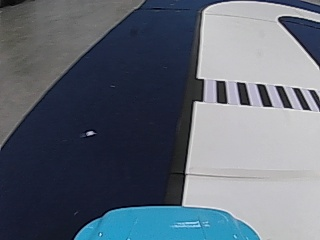CrossWalk: (198, 80, 312, 108)
